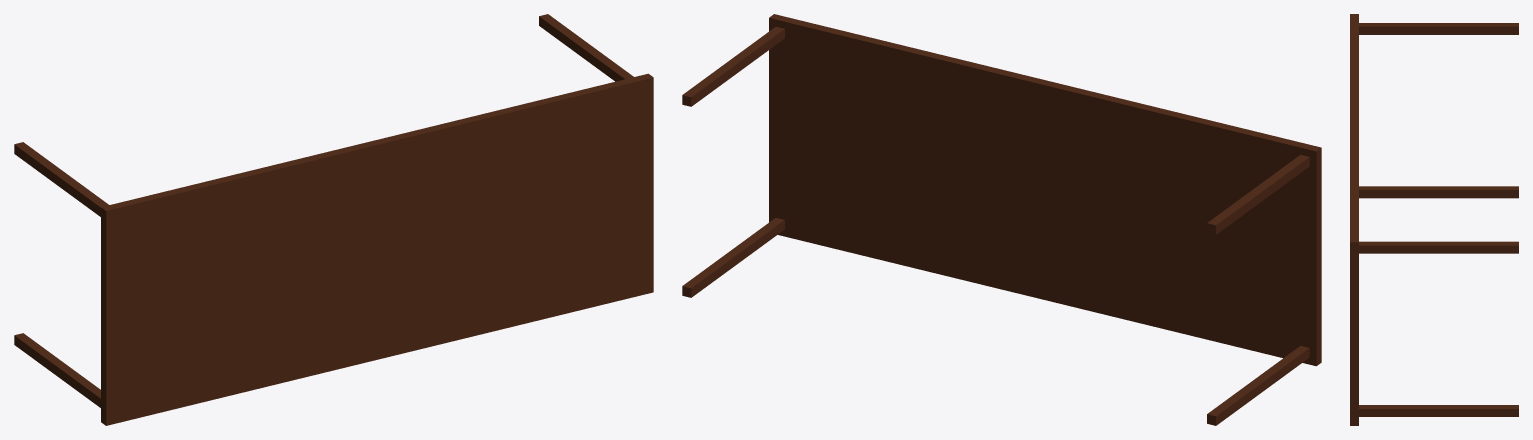
The model's file is table.obj.
3 views of the same model, side by side, from view 1: azimuth 30°, elevation 25°; view 2: azimuth 150°, elevation 25°; view 3: azimuth 270°, elevation 25° (orthographic). The views are drawn at different scales.
Visible parts, largest first — view 1: Table_Top, Table_Leg_-1_1, Table_Leg_-1_-1, Table_Leg_1_1; view 2: Table_Top, Table_Leg_1_1, Table_Leg_-1_-1, Table_Leg_-1_1, Table_Leg_1_-1; view 3: Table_Top, Table_Leg_-1_-1, Table_Leg_1_1, Table_Leg_-1_1, Table_Leg_1_-1.
Boxes of the visible parts, left/top/right/bottom form: Table_Top: left=101, top=73, right=653, bottom=425; Table_Leg_-1_1: left=14, top=142, right=108, bottom=216; Table_Leg_-1_-1: left=14, top=333, right=100, bottom=407; Table_Leg_1_1: left=539, top=14, right=633, bottom=81; Table_Top: left=769, top=14, right=1321, bottom=366; Table_Leg_1_1: left=682, top=27, right=784, bottom=106; Table_Leg_-1_-1: left=1207, top=345, right=1309, bottom=425; Table_Leg_-1_1: left=1207, top=154, right=1309, bottom=234; Table_Leg_1_-1: left=682, top=218, right=784, bottom=297; Table_Top: left=1350, top=14, right=1358, bottom=425; Table_Leg_-1_-1: left=1359, top=186, right=1518, bottom=198; Table_Leg_1_1: left=1359, top=241, right=1518, bottom=253; Table_Leg_-1_1: left=1359, top=23, right=1518, bottom=34; Table_Leg_1_-1: left=1359, top=405, right=1518, bottom=416.
Bounding box in the file's own units: 2.4 × 0.9 × 0.75.
